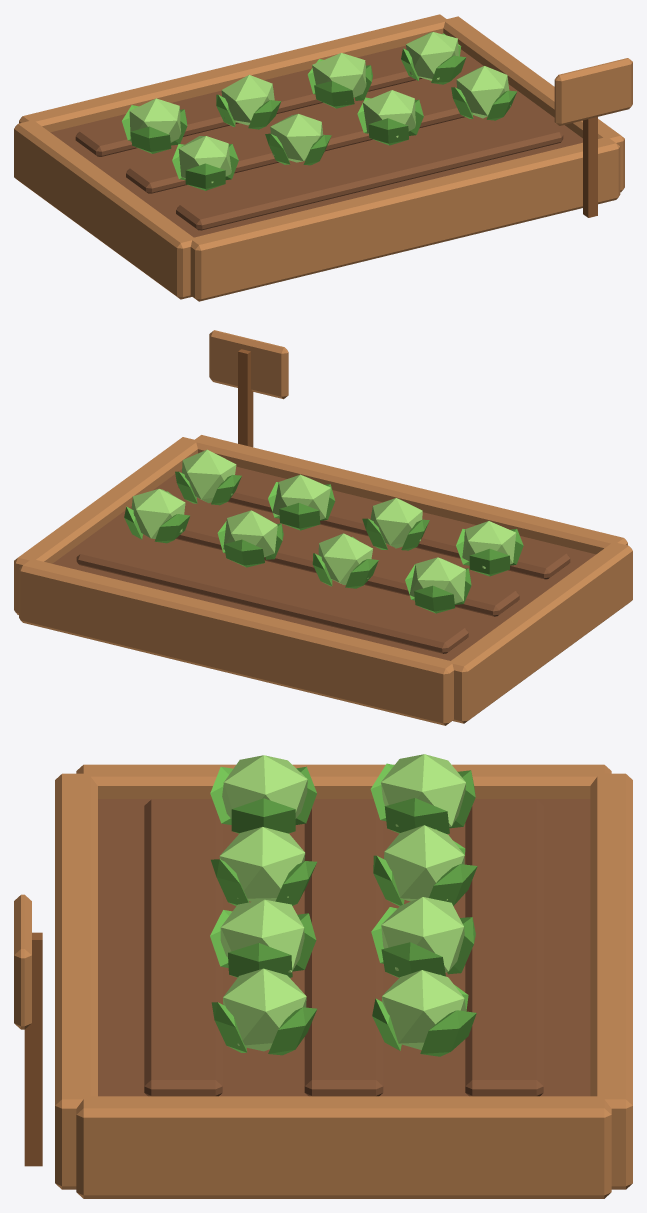
File: station_cabbage_bed.glb
The picture shows the model from 3 angles, top to bottom: view 1: azimuth 30°, elevation 25°; view 2: azimuth 150°, elevation 25°; view 3: azimuth 270°, elevation 25°; orthographic projection. The views are drawn at different scales.
Visible parts, largest first — view 1: station_cabbage_bed, station_cabbage_bed_plants; view 2: station_cabbage_bed, station_cabbage_bed_plants; view 3: station_cabbage_bed, station_cabbage_bed_plants.
Boxes of the visible parts, bbox=[...] form: station_cabbage_bed: bbox=[14, 14, 632, 301]; station_cabbage_bed_plants: bbox=[122, 32, 517, 190]; station_cabbage_bed: bbox=[14, 330, 632, 725]; station_cabbage_bed_plants: bbox=[124, 449, 523, 613]; station_cabbage_bed: bbox=[14, 764, 632, 1198]; station_cabbage_bed_plants: bbox=[210, 754, 477, 1056].
Size of the model in its own units: 2.32 by 0.745 by 1.73.
